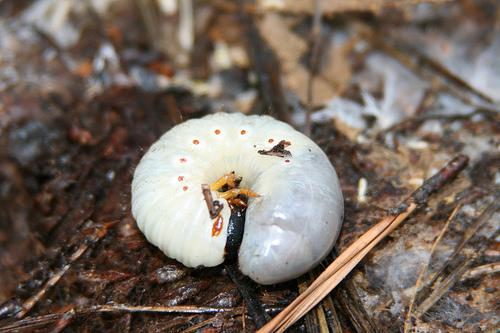grub: (129, 110, 349, 282)
